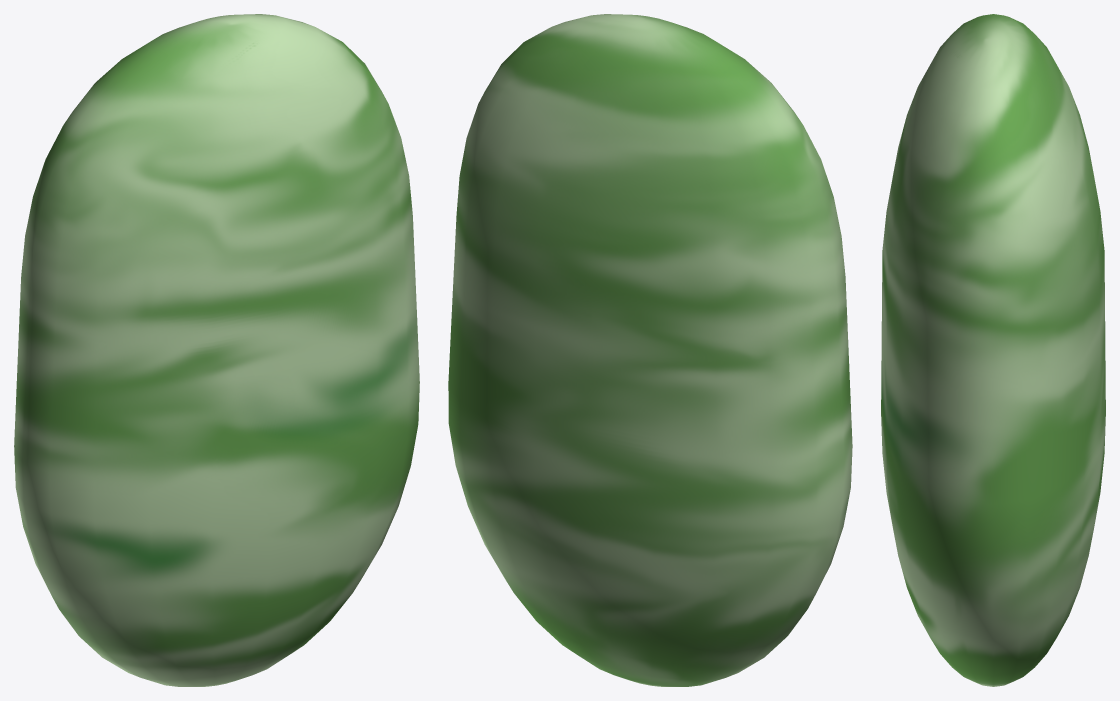
File: planetG.gltf
3 views of the same model, side by side, from view 1: azimuth 30°, elevation 25°; view 2: azimuth 150°, elevation 25°; view 3: azimuth 270°, elevation 25° (orthographic). The views are drawn at different scales.
Parts seen in each view (by area): view 1: planetG; view 2: planetG; view 3: planetG.
Boxes of the visible parts, x1=… form: planetG: x1=14, y1=14, x2=419, y2=686; planetG: x1=448, y1=14, x2=852, y2=686; planetG: x1=881, y1=14, x2=1105, y2=686.
Size of the model in its own units: 1.61 by 2.61 by 0.8351.
1 material, 1 textured.
